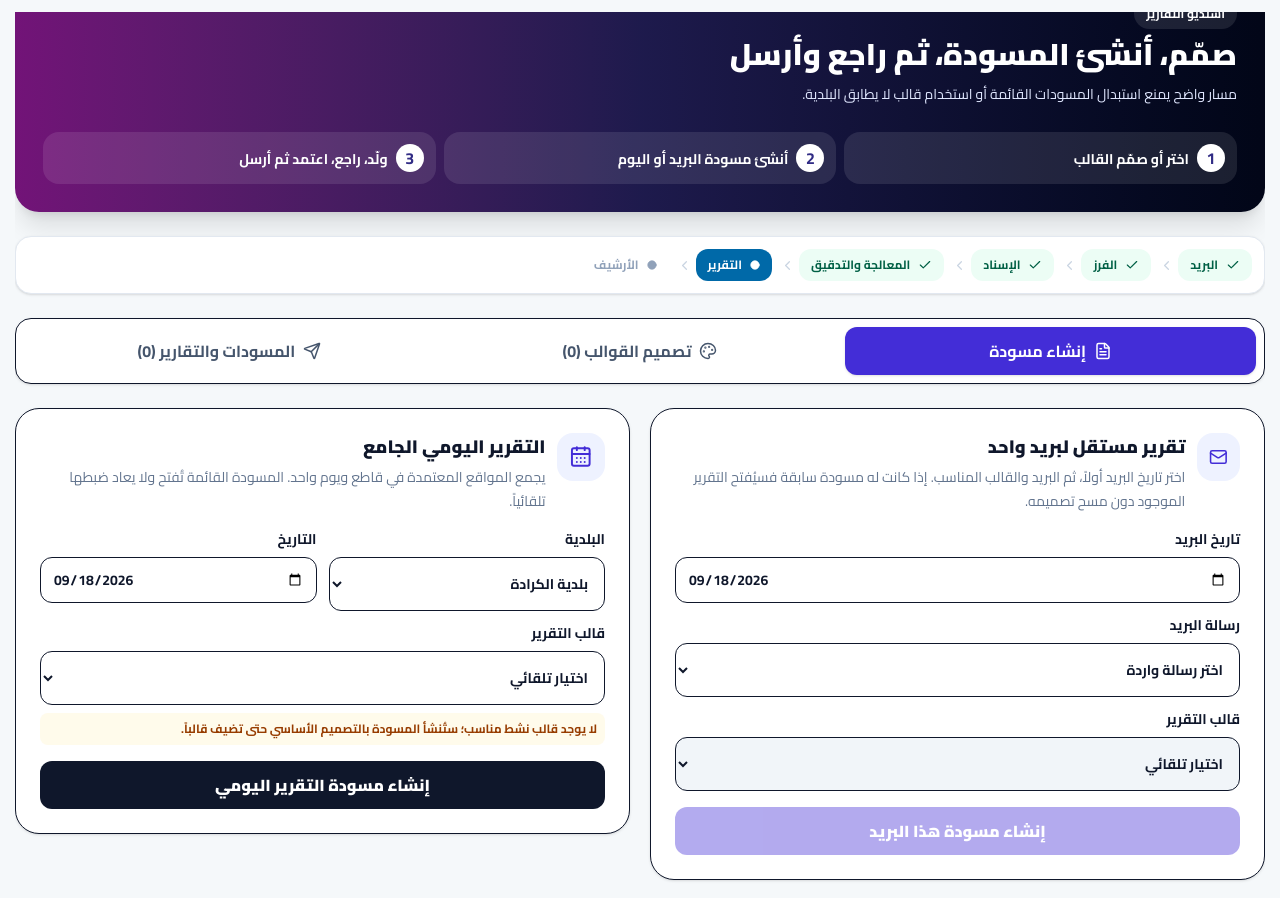
Test: وحدة القوالب — TemplatesPage › يعرض رسالة خطأ عند فشل الحفظ ويحافظ على المدخلات
(page scrolled)
Step 1. Click the button "تصميم القوالب (0)" → (640, 351), box [435,327,845,375]
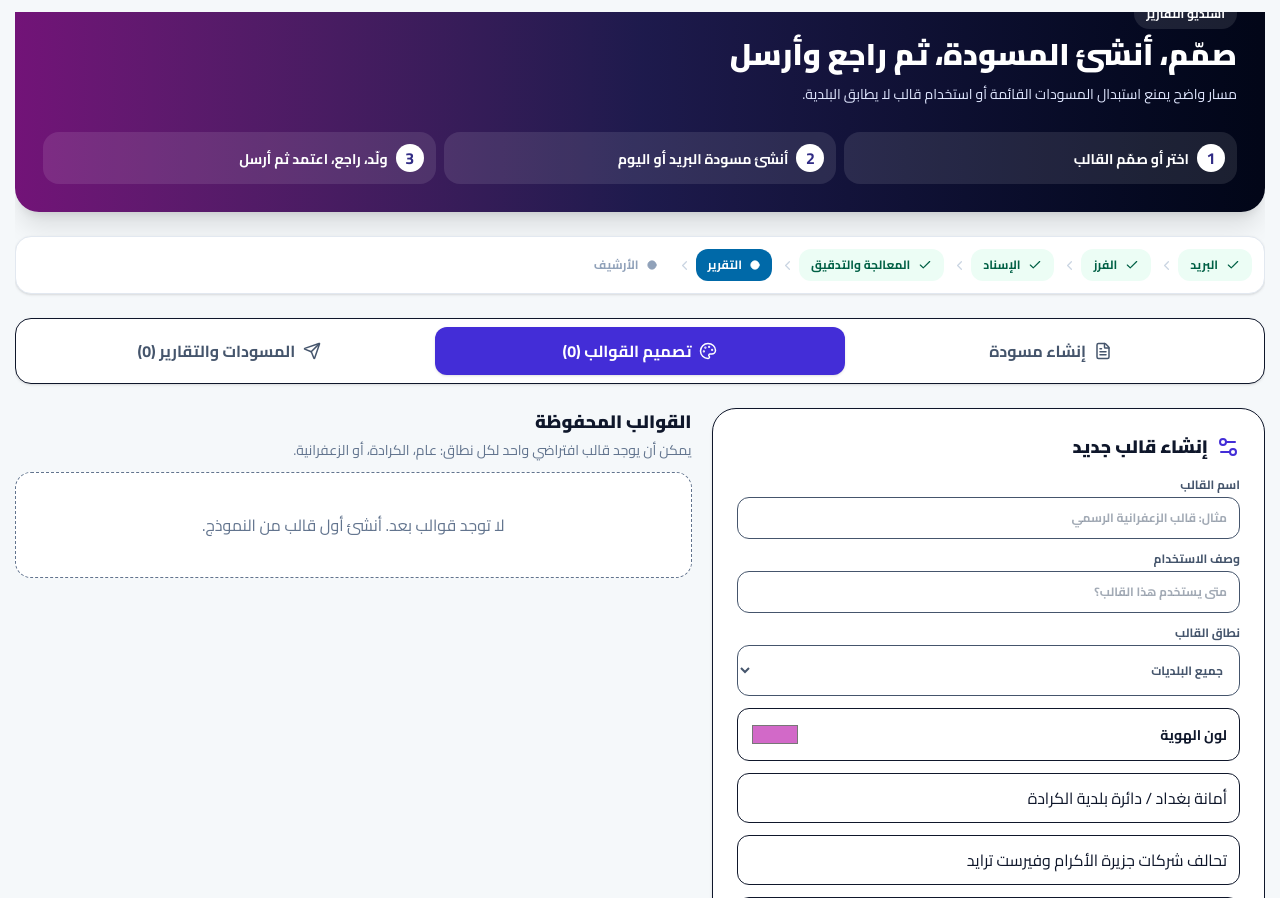
Step 2. Type "قالب" into the field labelled "اسم القالب" → (988, 518), box [736,497,1240,539]
(page scrolled)
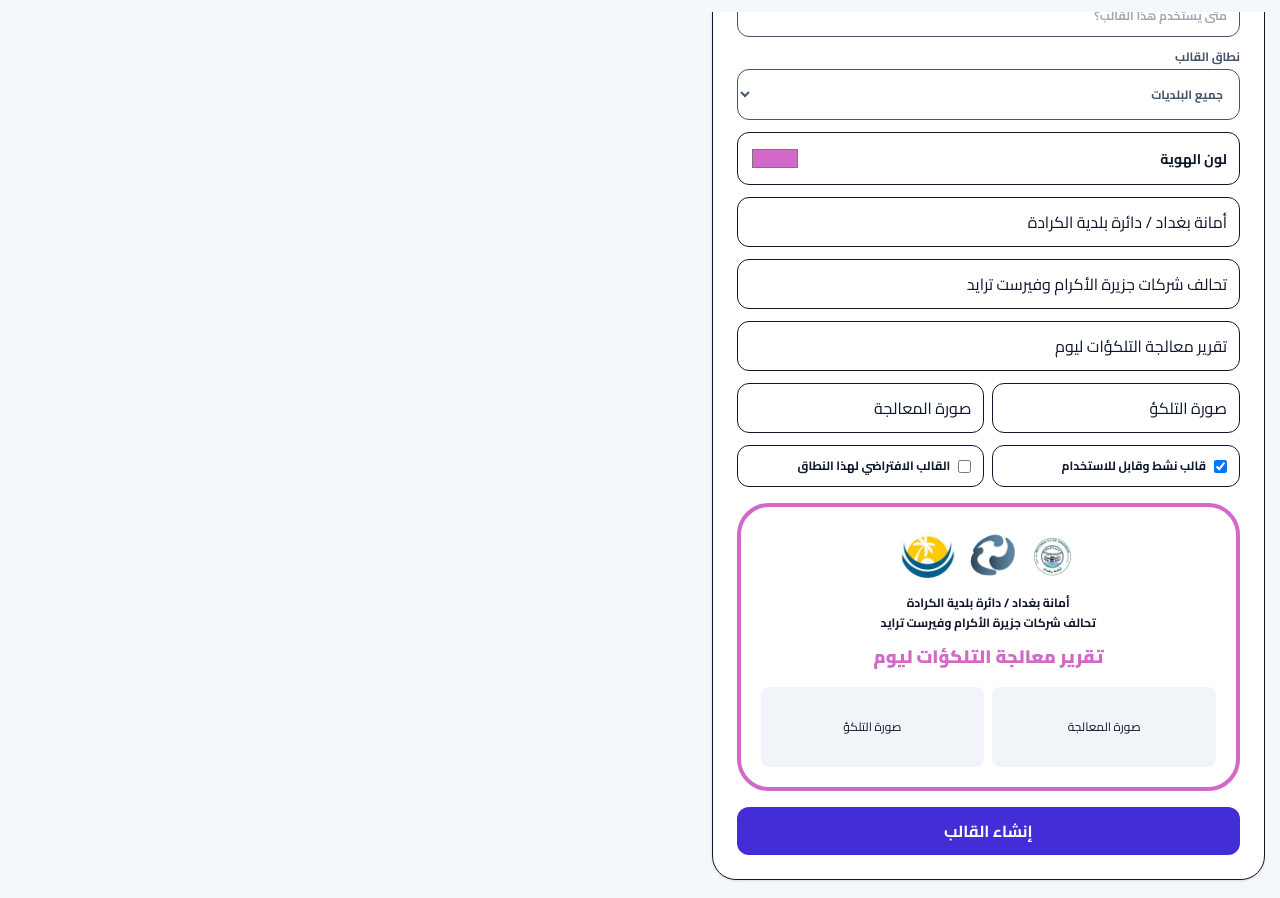
Step 3. Click the button "إنشاء القالب" → (988, 831), box [736,807,1240,855]
(page scrolled)
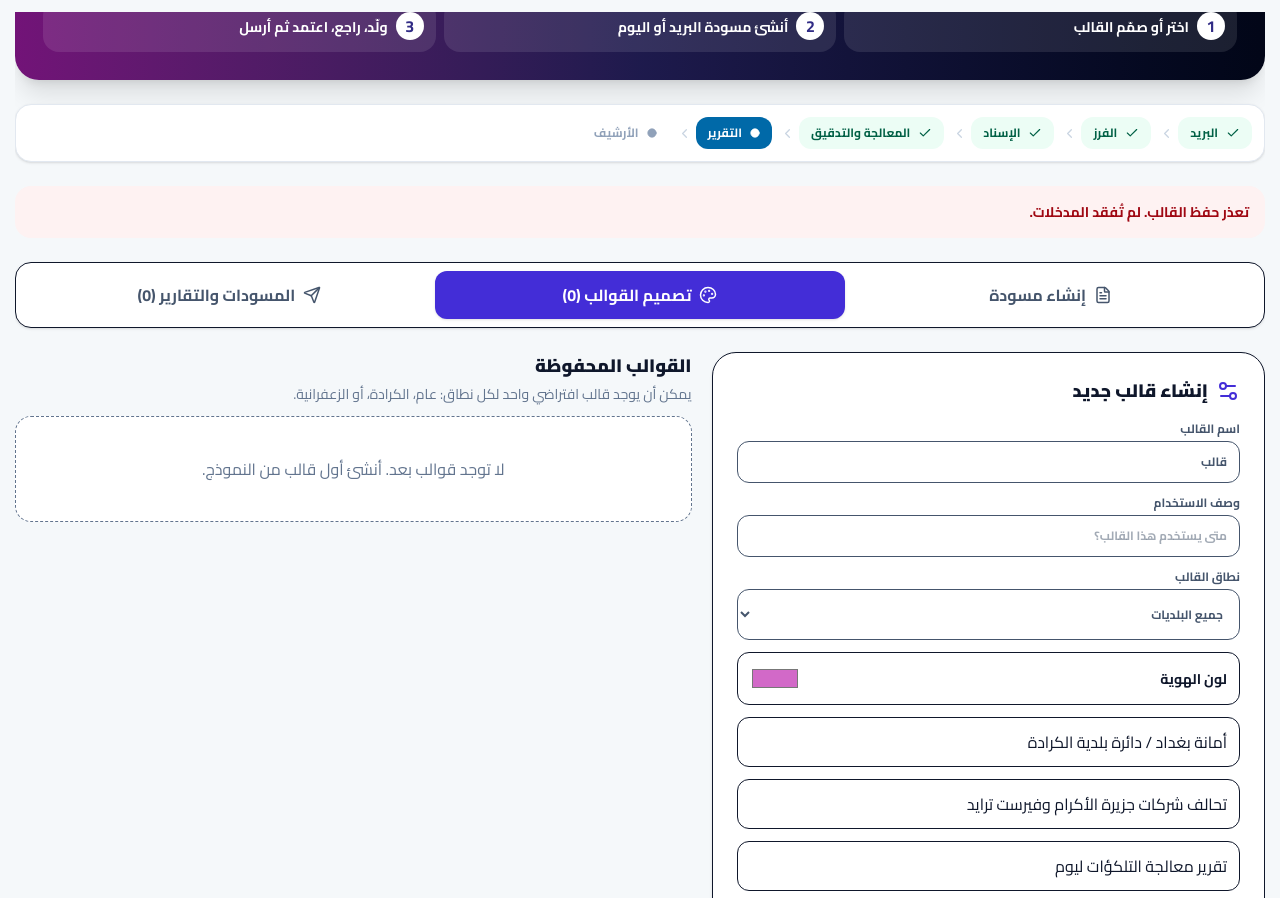
Check: the text "تعذر حفظ القالب. لم تُفقد المدخلات." is shown, box [15,186,1265,238]
